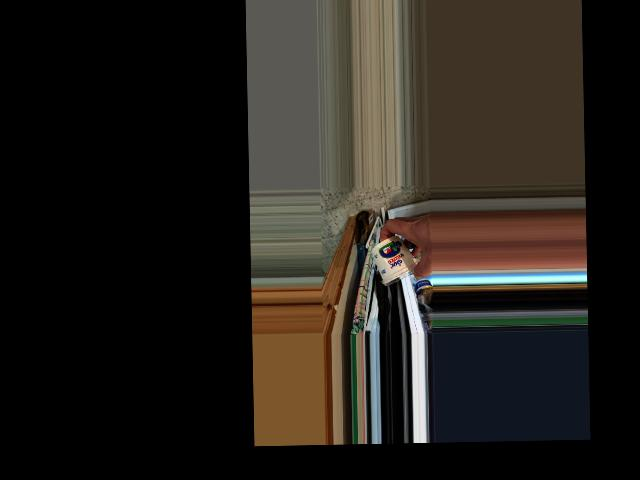cotage: (371, 237, 415, 287)
